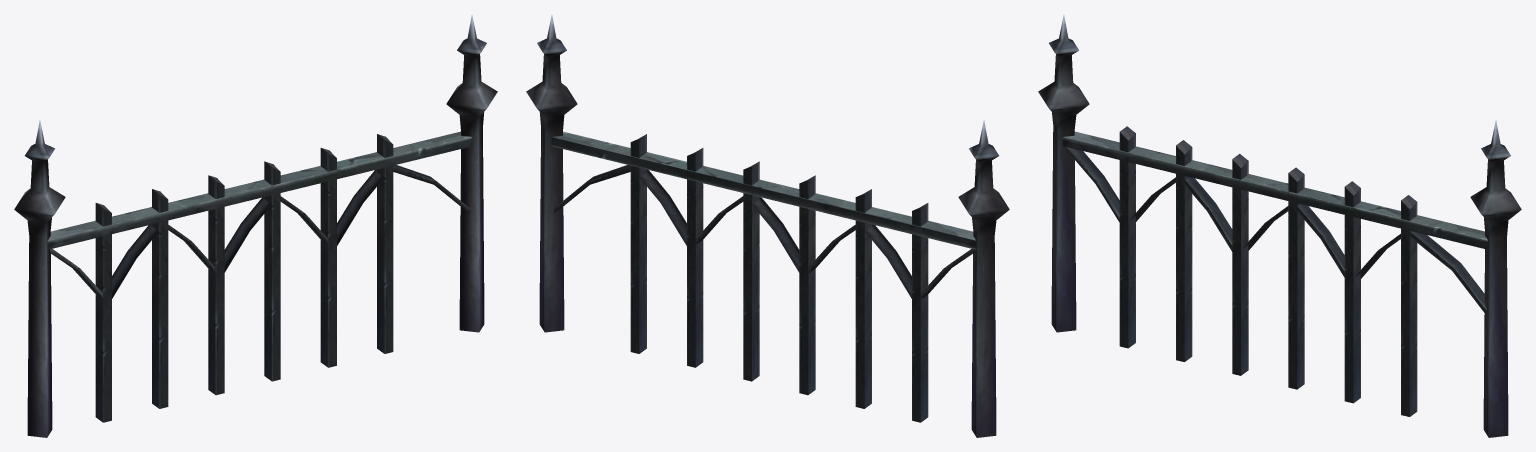
The model's file is langan01.FBX.
The picture shows the model from 3 angles, left to right: view 1: azimuth 30°, elevation 25°; view 2: azimuth 150°, elevation 25°; view 3: azimuth 330°, elevation 25°; orthographic projection.
Visible parts, largest first — view 1: langan01; view 2: langan01; view 3: langan01.
Boxes of the visible parts, x1,y1,x2,y2 form: langan01: (14, 15, 497, 437); langan01: (526, 15, 1009, 437); langan01: (1038, 15, 1521, 437).
Size of the model in its own units: 78.55 by 48.9 by 8.39.
